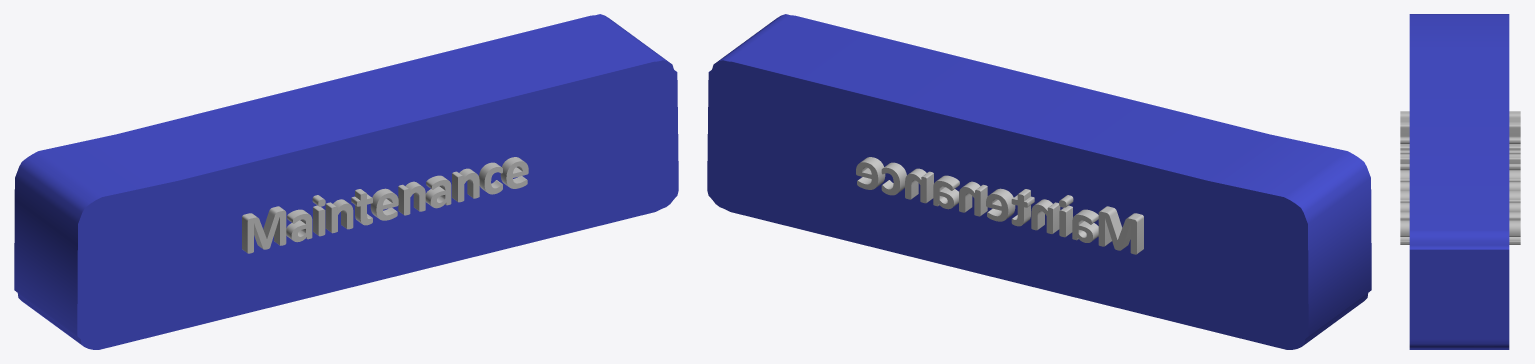
The model's file is maintainmodel.fbx.
3 views of the same model, side by side, from view 1: azimuth 30°, elevation 25°; view 2: azimuth 150°, elevation 25°; view 3: azimuth 270°, elevation 25° (orthographic). The views are drawn at different scales.
Visible parts, largest first — view 1: root, node_id147; view 2: root, node_id147; view 3: root, node_id147.
Part boxes in pixels (<box>): root: <box>14,14,678,349</box>; node_id147: <box>242,157,528,253</box>; root: <box>707,14,1371,349</box>; node_id147: <box>856,157,1143,254</box>; root: <box>1409,14,1509,349</box>; node_id147: <box>1400,111,1520,244</box>.
Bounding box in the file's own units: 0.4211 × 0.1022 × 0.0922.
